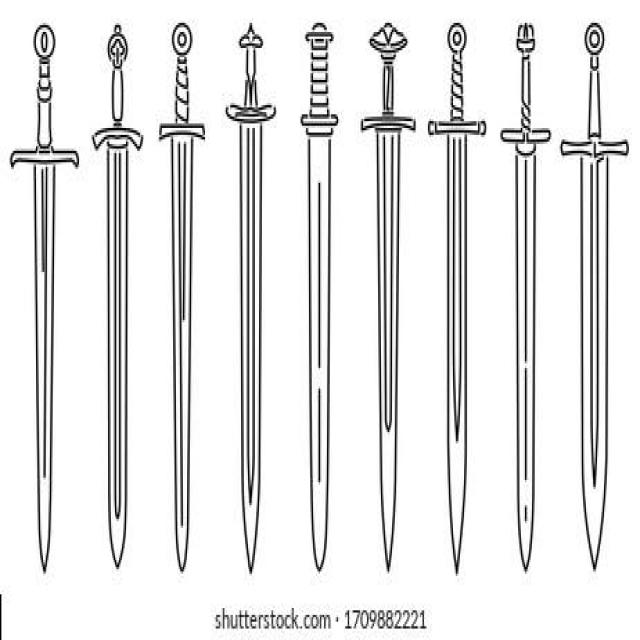weapon: (8, 16, 80, 583), (560, 18, 630, 581), (427, 18, 489, 576), (360, 21, 417, 572), (154, 21, 209, 580), (91, 18, 146, 576), (223, 16, 277, 581), (499, 21, 551, 578), (295, 21, 344, 578)
